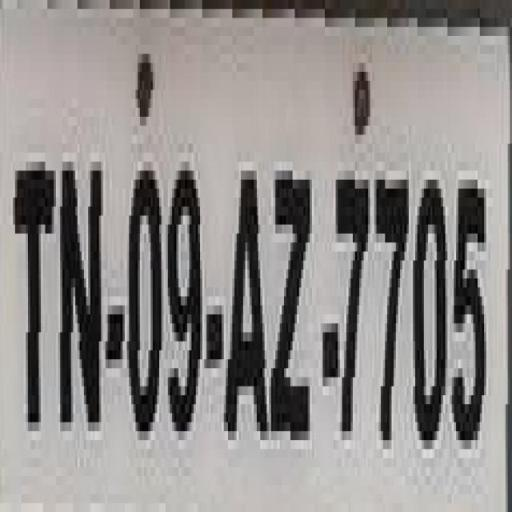number plate: (2, 17, 486, 512)
